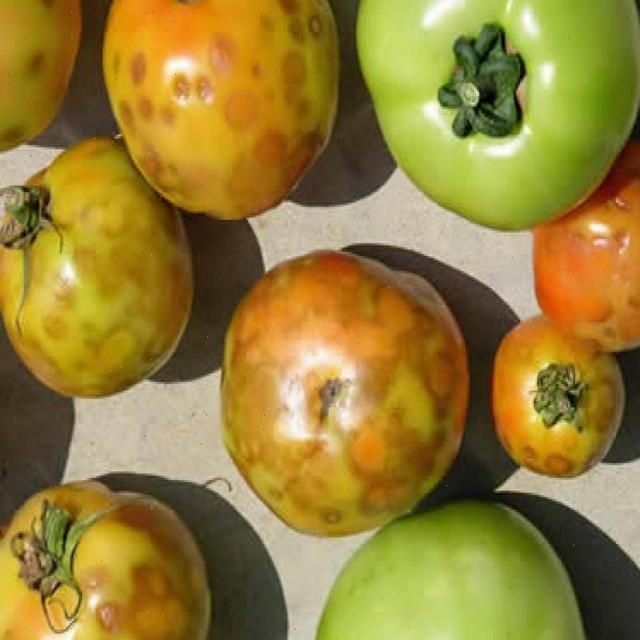Spotted wilt Virus Fruit: (0, 0, 427, 427)
